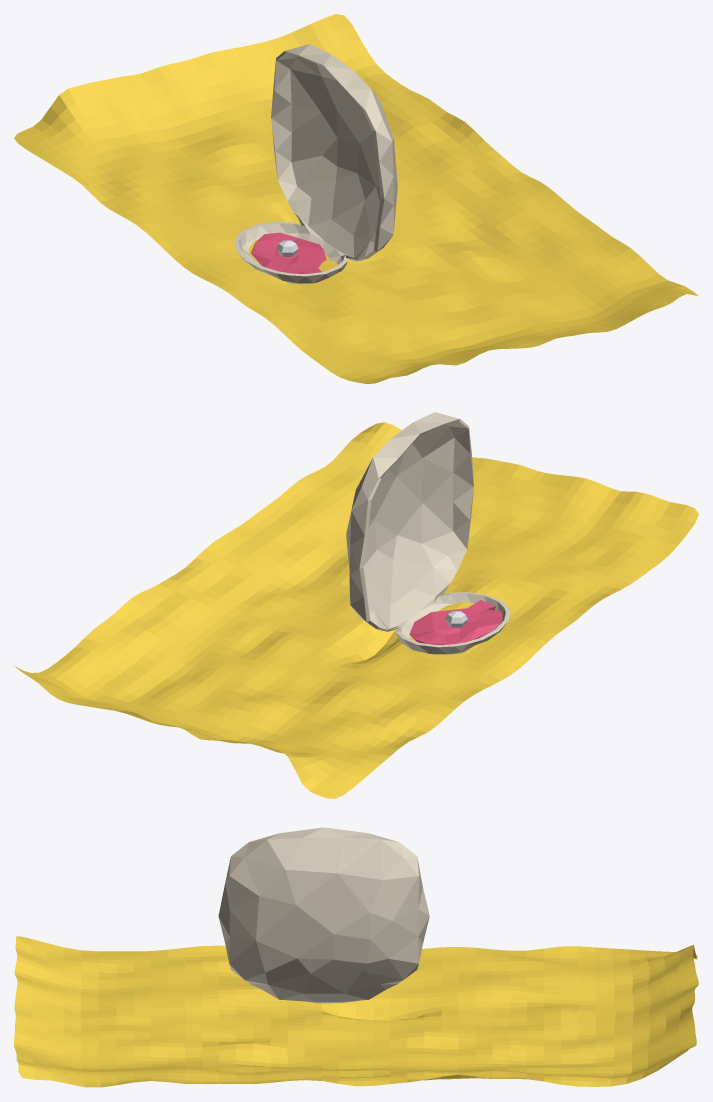
The model's file is oyster.glb.
The picture shows the model from 3 angles, top to bottom: view 1: azimuth 30°, elevation 25°; view 2: azimuth 150°, elevation 25°; view 3: azimuth 270°, elevation 25°; orthographic projection. The views are drawn at different scales.
Visible parts, largest first — view 1: Plane, Sphere; view 2: Plane, Sphere; view 3: Plane, Sphere.
Boxes of the visible parts, x1=… form: Plane: x1=14, y1=14, x2=698, y2=383; Sphere: x1=234, y1=44, x2=397, y2=283; Plane: x1=15, y1=422, x2=698, y2=798; Sphere: x1=346, y1=412, x2=510, y2=654; Plane: x1=14, y1=936, x2=698, y2=1087; Sphere: x1=218, y1=827, x2=429, y2=1003.
Bounding box in the file's own units: 24.31 × 14.4 × 46.75.
